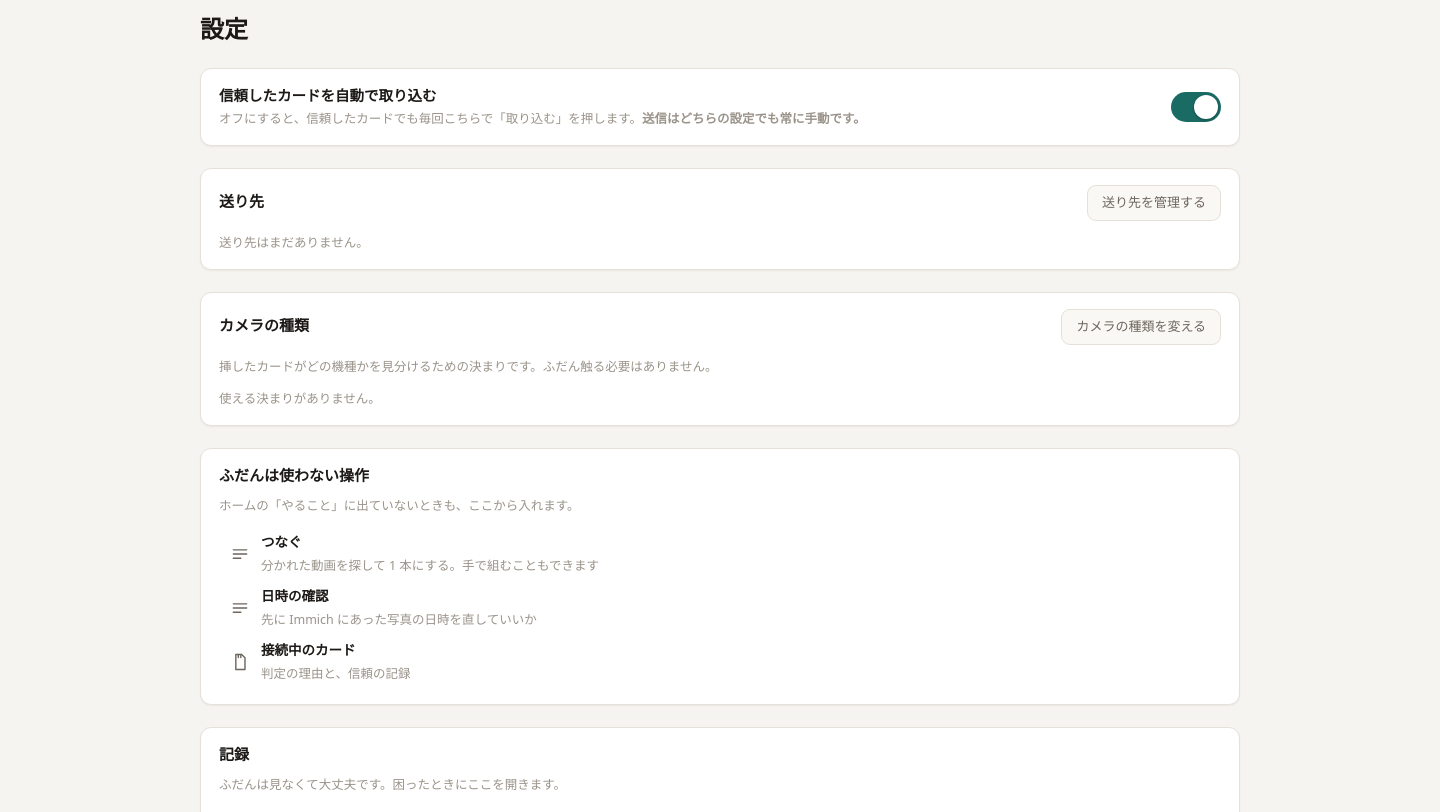
Test: 設定のトップ › 保存に失敗したら、その理由を画面に出す
What coordinates should you click on to do the following:
click the switch
I would click on:
 (1196, 107)
Its box is [1171,92,1221,122].
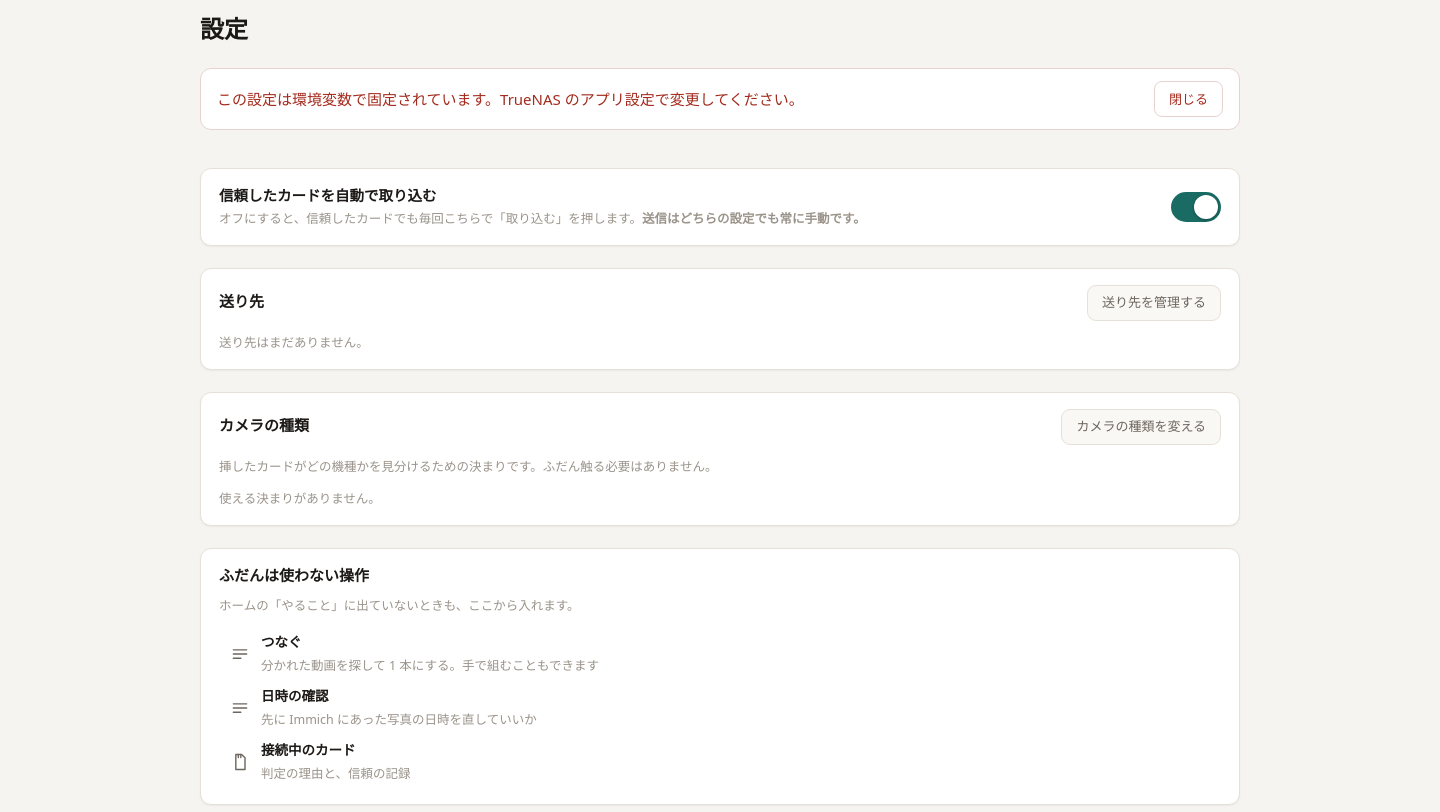
Now the message shows "環境変数で固定されています", box [217,89,804,109]
